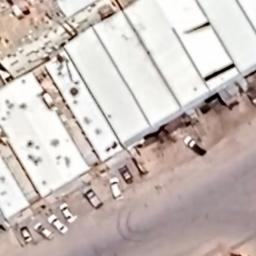sedan: (47, 214, 68, 236), (34, 220, 54, 242), (108, 174, 124, 200), (59, 202, 77, 224), (117, 166, 136, 186), (18, 226, 34, 244)
truck: (183, 134, 208, 158)
van: (82, 187, 102, 211)
